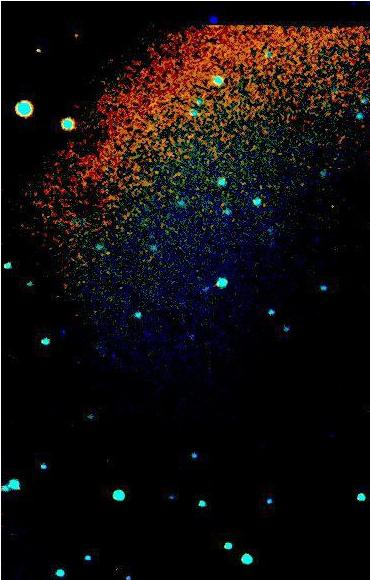star: (61, 20, 91, 50)
